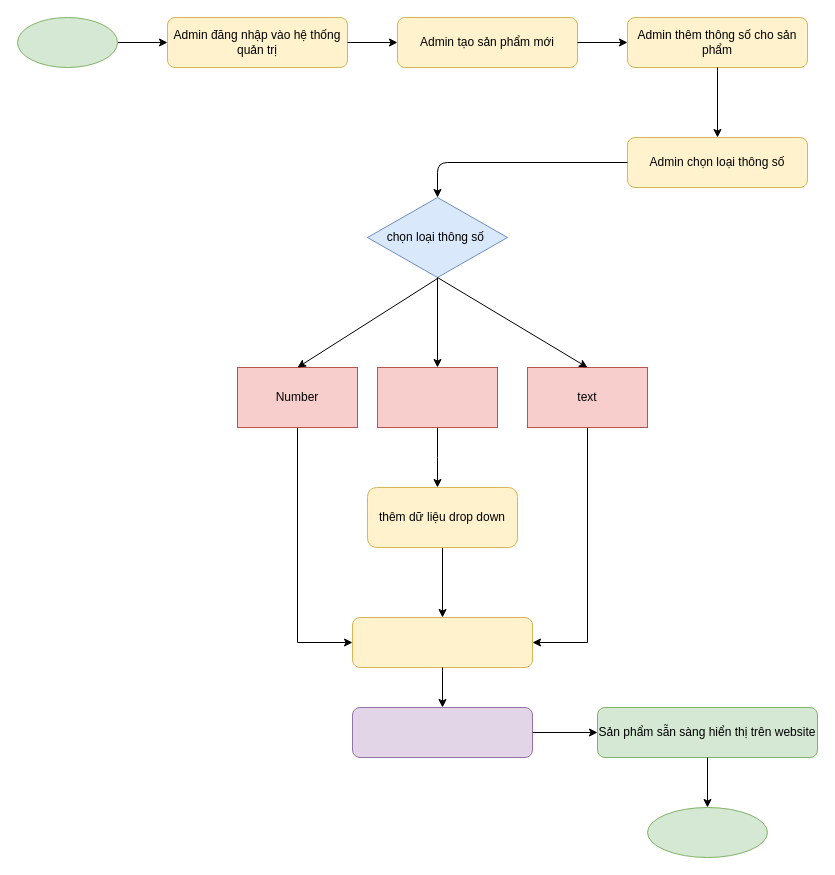
The diagram is 835 pixels wide and 875 high, and some of its shapes have lost their labels. The box of each missing label's shape, as (x1, y1, x2, y2) in pixels:
Admin lưu cấu hình sản phẩm: (352, 616, 532, 668)
Bắt đầu: (16, 16, 118, 68)
Hệ thống lưu dữ liệu cấu hình: (352, 706, 532, 758)
Kết thúc: (646, 806, 768, 858)
seclect: (376, 366, 498, 428)
